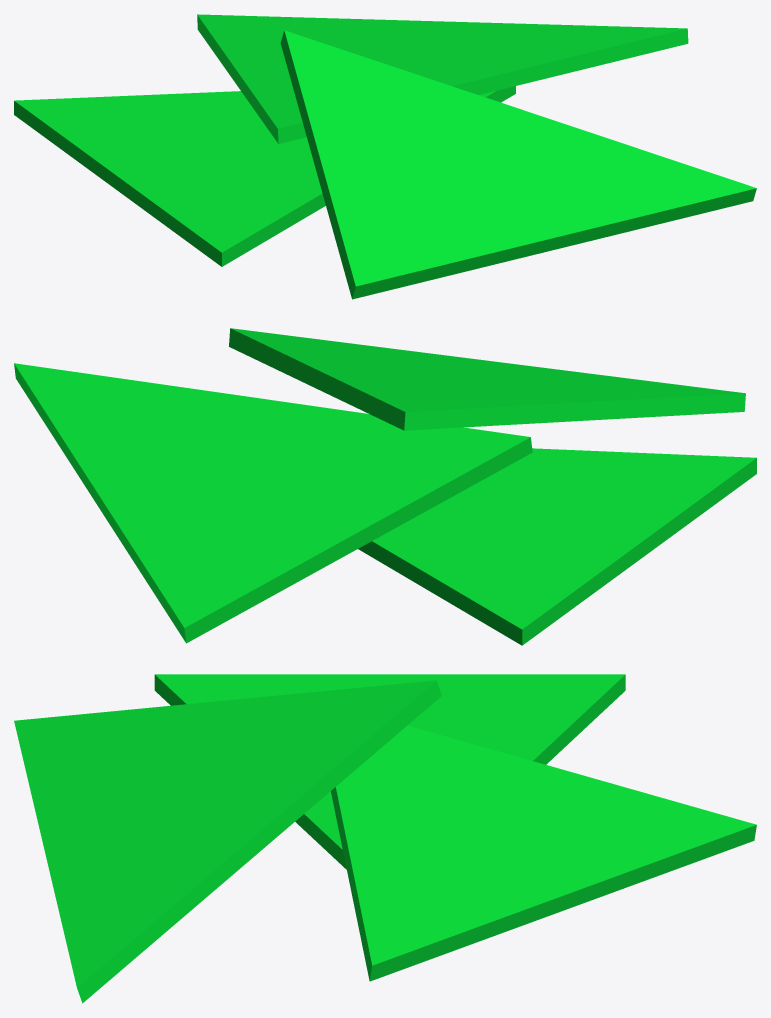
Rendered from cheesepPiles.fbx.
The picture shows the model from 3 angles, top to bottom: view 1: azimuth 30°, elevation 25°; view 2: azimuth 150°, elevation 25°; view 3: azimuth 270°, elevation 25°; orthographic projection. The views are drawn at different scales.
Visible parts, largest first — view 1: cheese.002, cheese, cheese.001; view 2: cheese.001, cheese, cheese.002; view 3: cheese.002, cheese.001, cheese.
Boxes of the visible parts, x1,y1,x2,y2 form: cheese.002: (280,30,756,299); cheese: (14,86,515,266); cheese.001: (197,14,688,143); cheese.001: (14,363,532,643); cheese: (358,448,756,645); cheese.002: (229,328,745,430); cheese.002: (14,680,441,1003); cheese.001: (331,725,756,981); cheese: (154,674,625,869).
Bounding box in the file's own units: 94.02 × 21.24 × 95.06.
